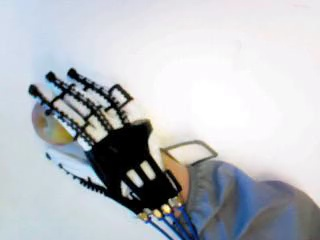apple: (29, 99, 78, 144)
hand: (27, 66, 184, 222)
